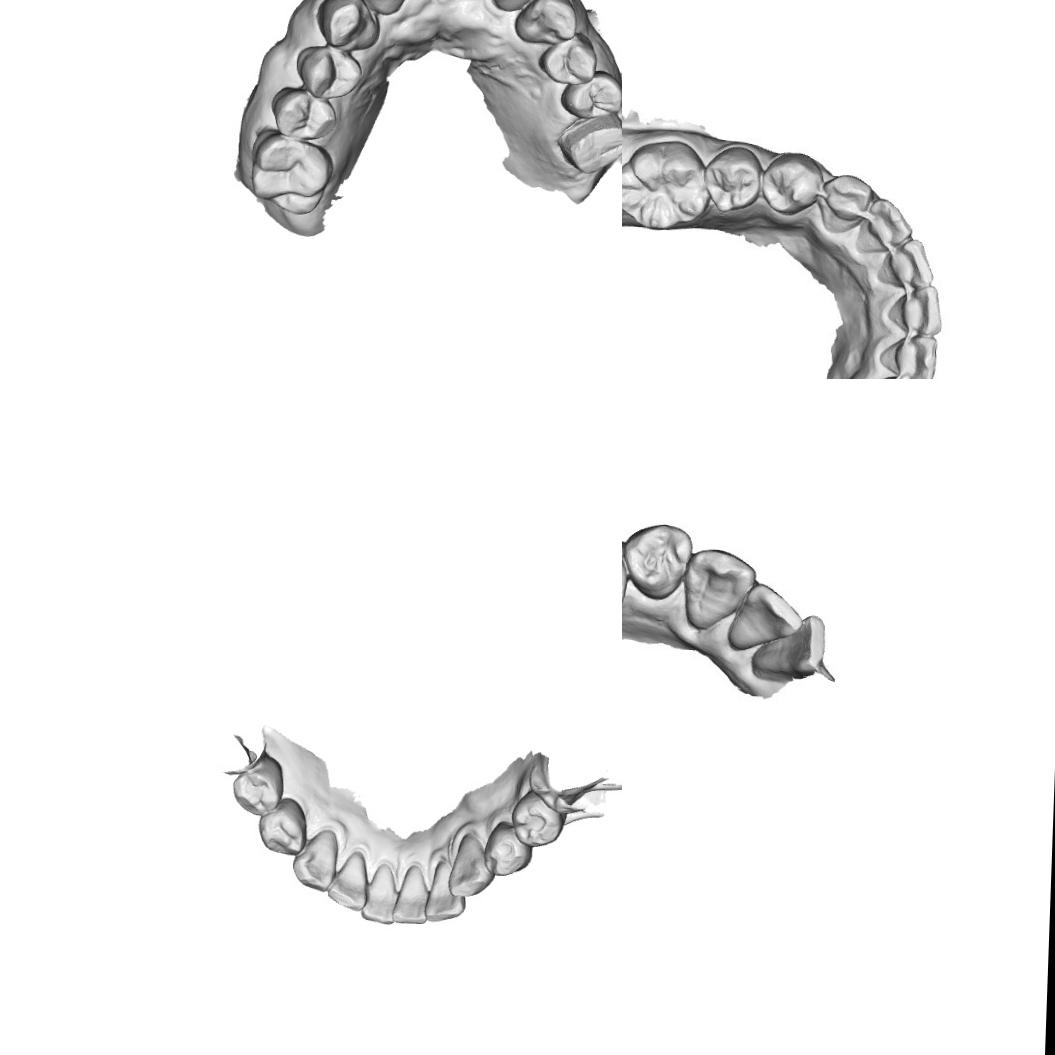canine: (682, 546, 749, 634), (818, 170, 872, 237), (315, 0, 383, 53), (290, 826, 340, 894), (446, 832, 495, 900), (511, 0, 578, 46)
crown: (553, 110, 622, 176)
incisor: (754, 614, 833, 686), (729, 581, 796, 658), (858, 196, 914, 258), (880, 238, 935, 295), (882, 328, 942, 379), (423, 856, 468, 924), (890, 284, 947, 337), (326, 848, 370, 913), (359, 860, 398, 925), (392, 863, 430, 926), (350, 0, 406, 15), (497, 0, 548, 15)
molar: (622, 141, 705, 237), (248, 128, 336, 216)
premolar: (624, 518, 695, 606), (758, 147, 824, 217), (293, 42, 365, 102), (706, 140, 761, 215), (268, 85, 339, 141), (230, 752, 287, 818), (508, 788, 567, 850), (536, 33, 598, 87), (256, 796, 308, 860), (559, 67, 622, 119), (481, 822, 534, 878)
